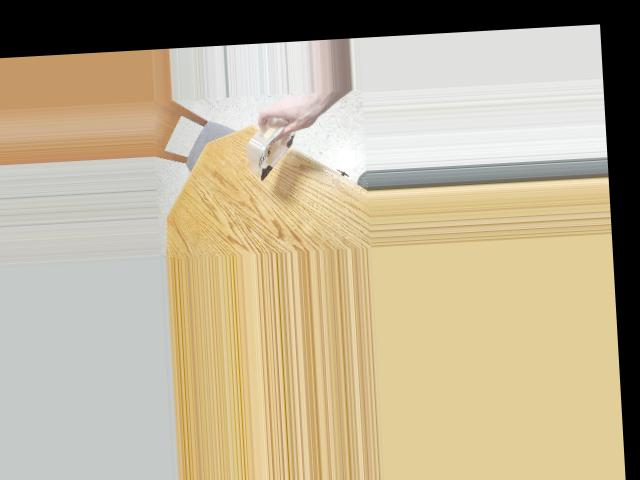cheese: (231, 114, 305, 174)
